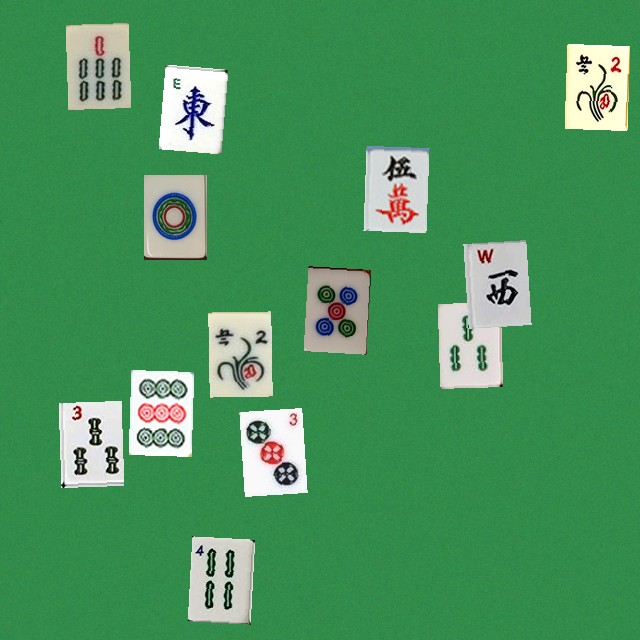tile: (363, 145, 426, 230), (128, 370, 191, 455), (437, 302, 500, 387), (158, 64, 221, 149), (303, 266, 366, 351), (564, 43, 627, 128), (239, 408, 302, 493), (58, 400, 121, 485), (65, 23, 128, 108), (463, 240, 526, 325), (208, 311, 271, 396), (187, 536, 250, 621), (143, 174, 206, 259)
